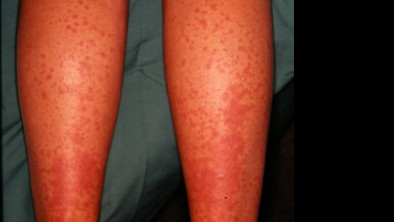SJS-TEN: (0, 0, 133, 222), (159, 0, 285, 222)
